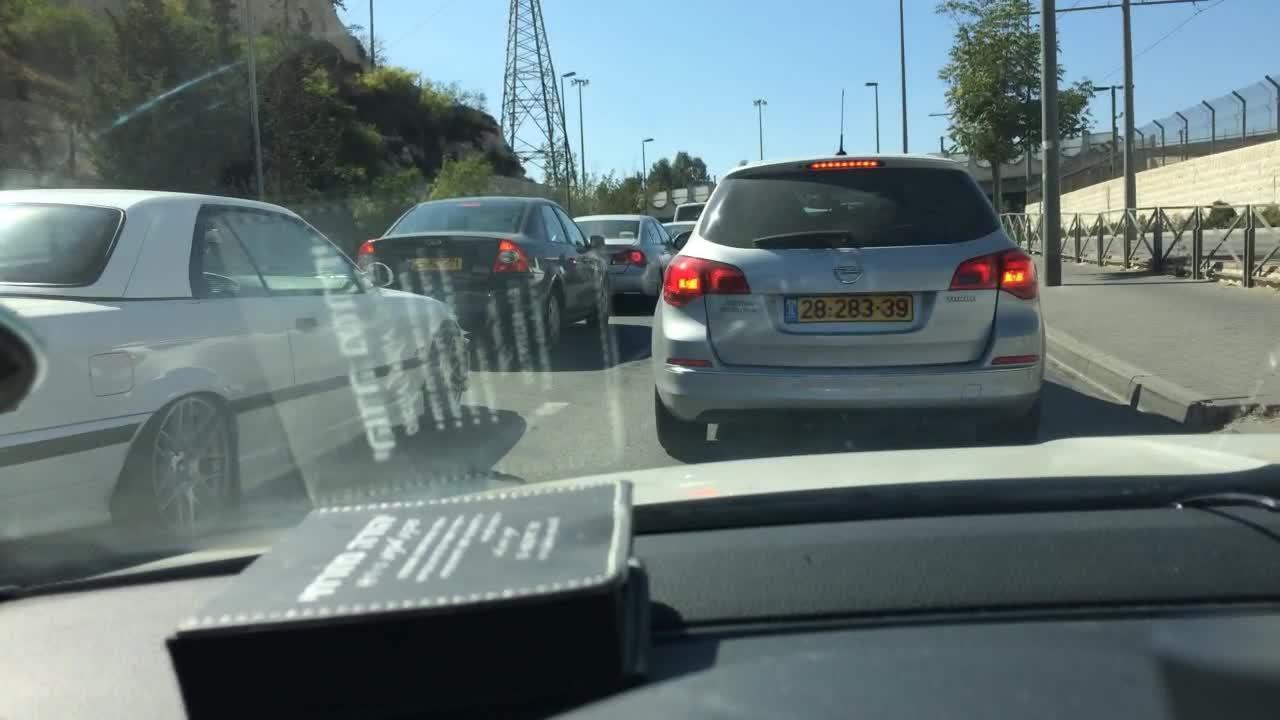no class: (830, 249, 867, 287)
